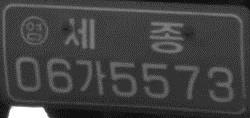0: (14, 55, 42, 93)
3: (206, 64, 235, 103)
5: (140, 61, 171, 100), (108, 60, 138, 98)
6: (46, 57, 73, 94)
7: (172, 63, 201, 100)
가: (74, 58, 107, 95)
세종_D: (62, 16, 185, 56)
영: (19, 14, 49, 46)
